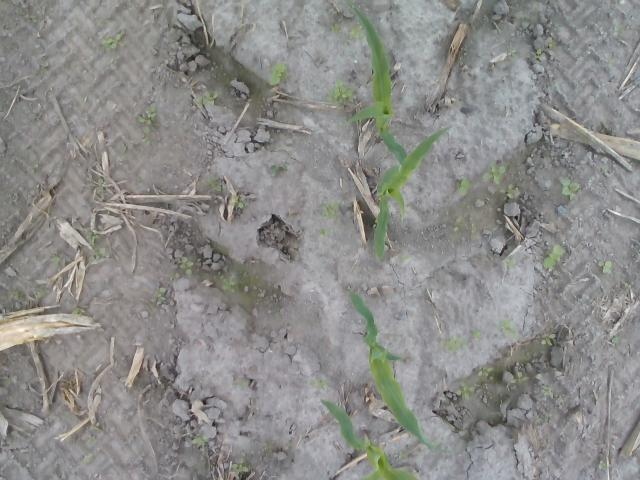Maize: (349, 290, 455, 454), (343, 0, 410, 167), (372, 124, 453, 256), (320, 398, 420, 480)
Weeds: (218, 267, 248, 296), (326, 78, 354, 107), (482, 159, 508, 185), (542, 243, 568, 269), (134, 103, 158, 128), (454, 380, 480, 402), (191, 90, 224, 107), (440, 334, 468, 353), (498, 319, 520, 341), (268, 61, 288, 85), (560, 175, 580, 199), (319, 200, 343, 220), (100, 30, 124, 50), (229, 458, 249, 477), (475, 365, 496, 383), (177, 255, 193, 278), (500, 183, 520, 200), (331, 8, 344, 34), (0, 289, 24, 303), (454, 174, 472, 192), (150, 286, 168, 304), (208, 175, 225, 194), (31, 60, 49, 76), (609, 16, 625, 33), (598, 256, 613, 274), (511, 370, 530, 384), (350, 24, 366, 40), (191, 434, 209, 447), (310, 378, 328, 391), (90, 248, 108, 260), (540, 334, 556, 346), (82, 448, 94, 464), (530, 48, 544, 61), (502, 255, 516, 268), (271, 164, 285, 177), (86, 230, 96, 248), (453, 216, 464, 232), (142, 127, 152, 144), (33, 287, 50, 297), (238, 192, 248, 208), (50, 255, 66, 265), (545, 35, 557, 48), (468, 330, 481, 342), (398, 255, 415, 264), (542, 386, 554, 398), (342, 0, 358, 9), (598, 460, 608, 472), (71, 307, 85, 315), (508, 48, 518, 59), (534, 415, 546, 424), (398, 451, 409, 460), (96, 176, 102, 192), (458, 56, 466, 66), (611, 335, 619, 345), (319, 228, 329, 236), (389, 335, 400, 342), (1, 377, 12, 384), (622, 280, 630, 289), (32, 14, 38, 24), (496, 399, 502, 407), (64, 410, 69, 416), (363, 0, 369, 5), (588, 176, 592, 182)
